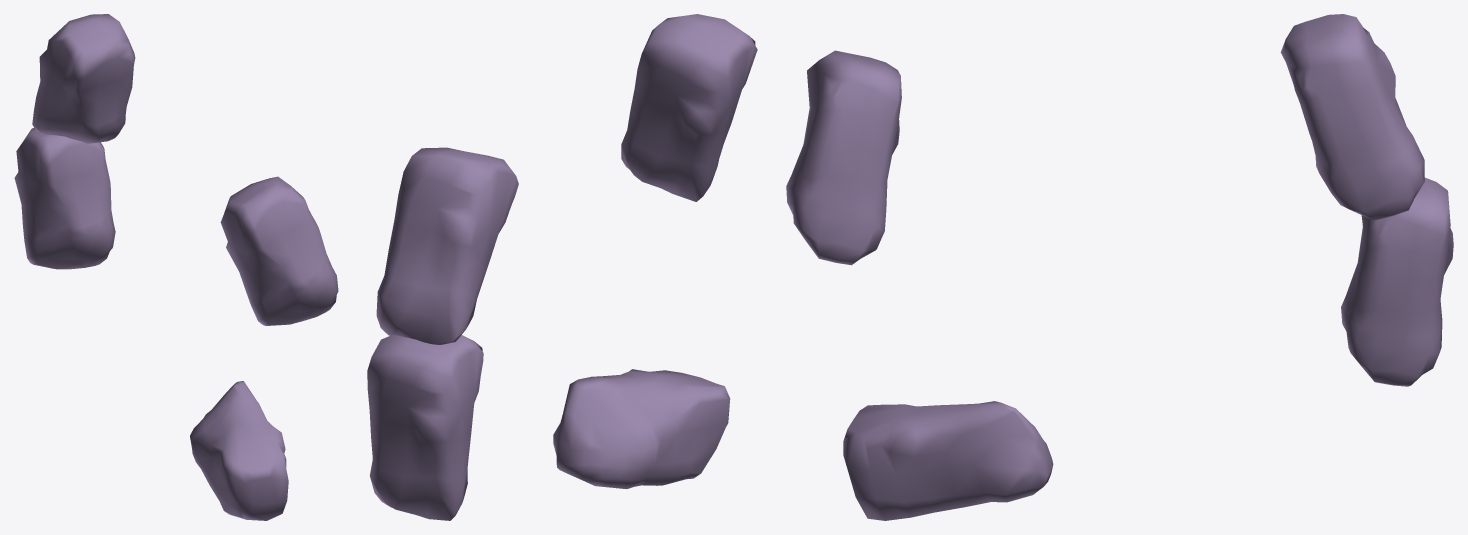
The model's file is Wall_Break_08B_Lod0.fbx.
3 renders of one model, left to right at view 1: azimuth 30°, elevation 25°; view 2: azimuth 150°, elevation 25°; view 3: azimuth 270°, elevation 25°, orthographic. The views are drawn at different scales.
Parts seen in each view (by area): view 1: Wall_Break_08B_Lod0; view 2: Wall_Break_08B_Lod0; view 3: Wall_Break_08B_Lod0.
Boxes of the visible parts, x1,y1,x2,y2 form: Wall_Break_08B_Lod0: (14, 14, 338, 520); Wall_Break_08B_Lod0: (367, 14, 757, 520); Wall_Break_08B_Lod0: (786, 14, 1453, 520).
Size of the model in its own units: 84.42 by 323 by 398.
